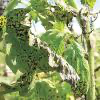Tomato Septoria leaf spot: (4, 10, 79, 84), (62, 40, 96, 98), (34, 78, 67, 99)
